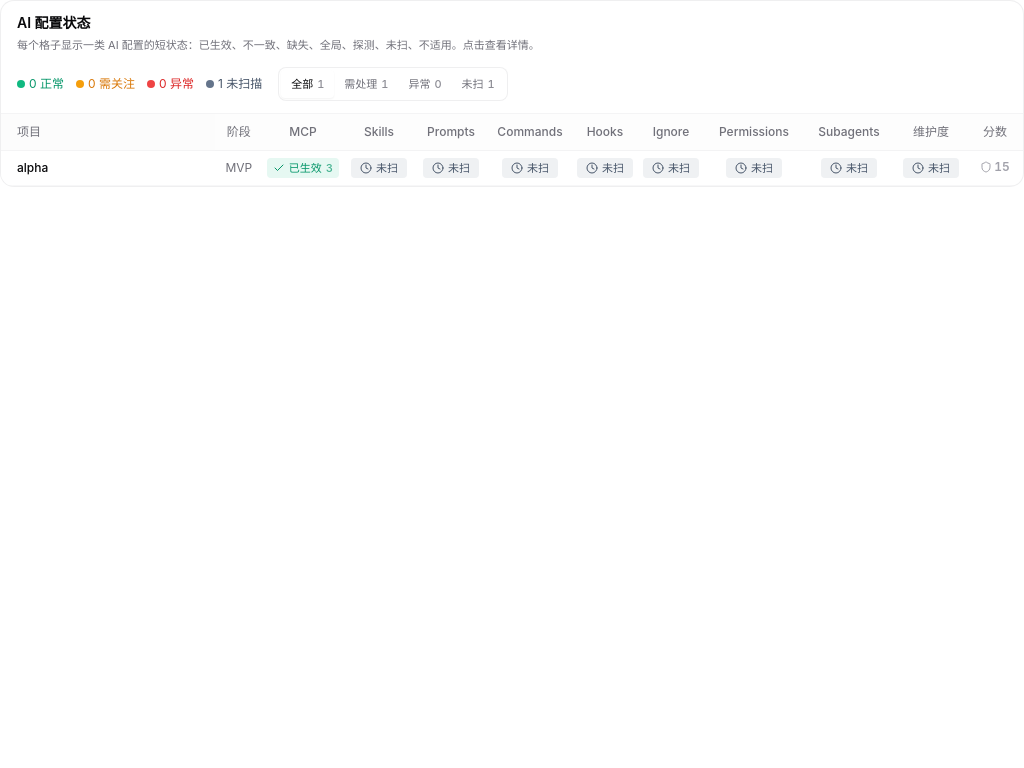
ProjectAssetsMatrix 资产数量 › 详情面板给数量一个口径：是「OpenSunstar 已关联」，不是磁盘上有几个
Click the button "已生效 3". click: (303, 168)
box: top-left (267, 158), bottom-right (339, 178)
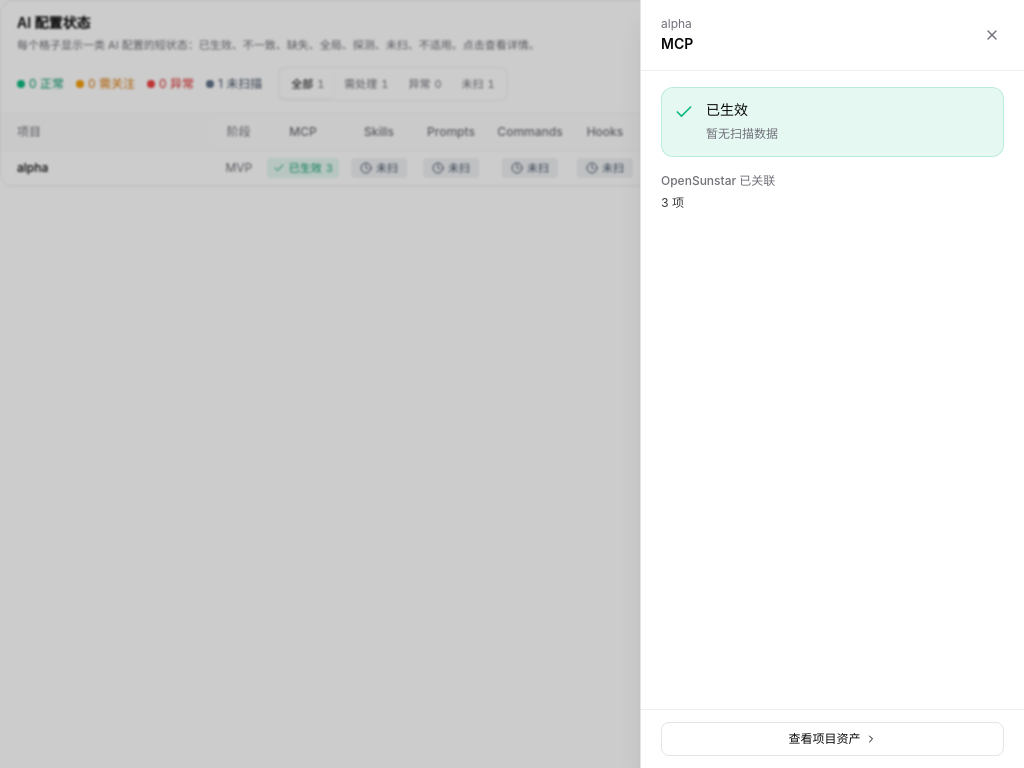
expect the text "OpenSunstar 已关联" is shown: met, box top-left (661, 172), bottom-right (775, 188)
